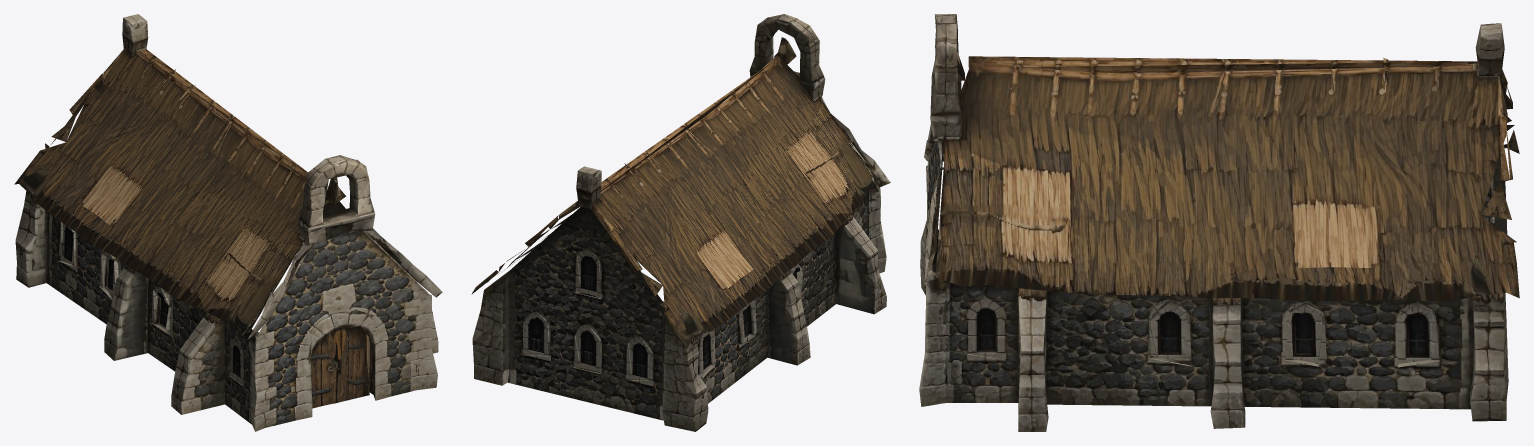
Rendered from act1_extras_v1_flint_church.glb.
3 views of the same model, side by side, from view 1: azimuth 30°, elevation 25°; view 2: azimuth 150°, elevation 25°; view 3: azimuth 270°, elevation 25° (orthographic). The views are drawn at different scales.
Parts seen in each view (by area): view 1: A15_1_flint_church; view 2: A15_1_flint_church; view 3: A15_1_flint_church.
Part boxes in pixels (x1,y1,x2,y2): A15_1_flint_church: (14, 14, 442, 431); A15_1_flint_church: (471, 14, 890, 431); A15_1_flint_church: (919, 14, 1519, 431).
Bounding box in the file's own units: 0.6675 × 0.6055 × 0.9995.
Materials: 1 (1 with a texture image).
